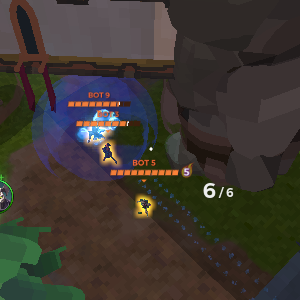model: (136, 193, 155, 220), (102, 142, 118, 164), (86, 120, 101, 141)
